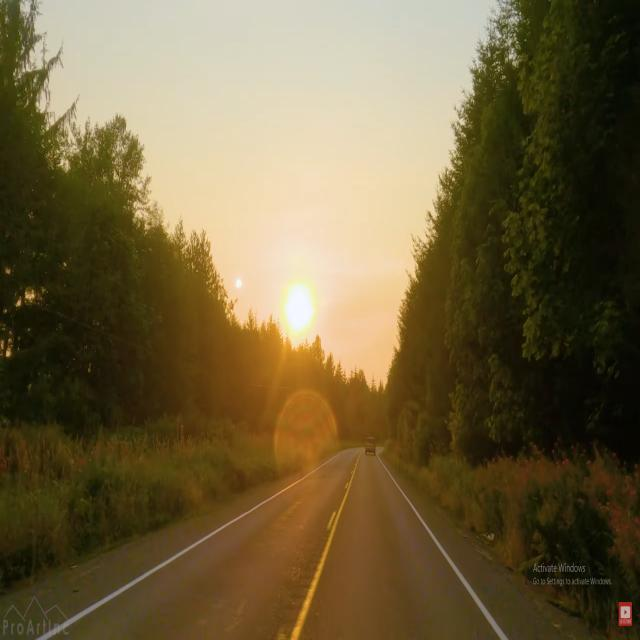sun: (277, 272, 323, 336)
